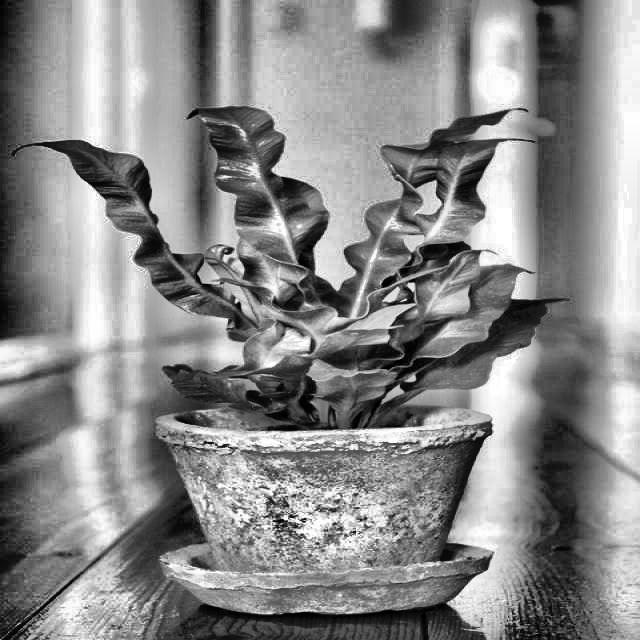plants: (48, 99, 570, 586)
